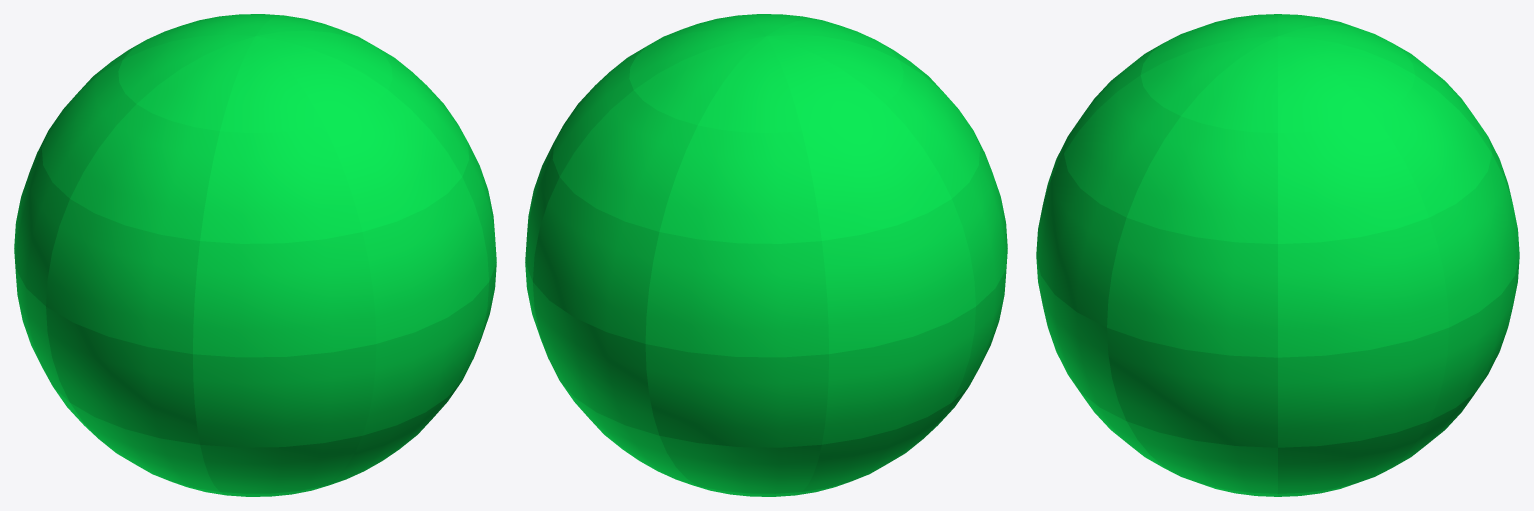
File: Planet.fbx
3 views of the same model, side by side, from view 1: azimuth 30°, elevation 25°; view 2: azimuth 150°, elevation 25°; view 3: azimuth 270°, elevation 25° (orthographic).
Visible parts, largest first — view 1: Sphere.019, Sphere.039, Sphere.018, Sphere.022, Sphere.013, Sphere.042, Sphere.038, Sphere.016, Sphere.012, Sphere.020, Sphere.034, Sphere.023 (+13 smaller); view 2: Sphere.069, Sphere.031, Sphere.068, Sphere.072, Sphere.063, Sphere.034, Sphere.030, Sphere.066, Sphere.062, Sphere.070, Sphere.042, Sphere.073 (+13 smaller); view 3: Sphere.047, Sphere.055, Sphere.046, Sphere.054, Sphere.052, Sphere.058, Sphere.013, Sphere.063, Sphere.016, Sphere.066, Sphere.048, Sphere.056 (+14 smaller).
Boxes of the visible parts, x1,y1,x2,y2 form: Sphere.019: (193, 232, 376, 357); Sphere.039: (46, 199, 199, 354); Sphere.018: (193, 344, 376, 447); Sphere.022: (200, 125, 362, 243); Sphere.013: (362, 177, 488, 343); Sphere.042: (70, 104, 219, 240); Sphere.038: (46, 307, 199, 444); Sphere.016: (324, 90, 461, 231); Sphere.012: (362, 282, 488, 435); Sphere.020: (200, 436, 362, 493); Sphere.034: (42, 60, 135, 198); Sphere.023: (220, 36, 323, 132); Sphere.069: (645, 232, 828, 357); Sphere.031: (822, 199, 975, 354); Sphere.068: (645, 344, 828, 447); Sphere.072: (659, 125, 821, 243); Sphere.063: (533, 177, 659, 343); Sphere.034: (802, 104, 951, 240); Sphere.030: (822, 307, 975, 444); Sphere.066: (560, 90, 697, 231); Sphere.062: (533, 282, 659, 435); Sphere.070: (659, 436, 821, 493); Sphere.042: (886, 60, 979, 198); Sphere.073: (698, 36, 801, 132); Sphere.047: (1278, 218, 1448, 357); Sphere.055: (1107, 218, 1277, 357); Sphere.046: (1278, 328, 1448, 447); Sphere.054: (1107, 328, 1277, 447); Sphere.052: (1278, 116, 1429, 243); Sphere.058: (1126, 116, 1277, 243); Sphere.013: (1036, 154, 1126, 327); Sphere.063: (1429, 154, 1519, 327); Sphere.016: (1064, 75, 1180, 217); Sphere.066: (1375, 75, 1491, 217); Sphere.048: (1278, 421, 1428, 493); Sphere.056: (1127, 421, 1277, 493).
Size of the model in its own units: 20000 by 20000 by 20000.
